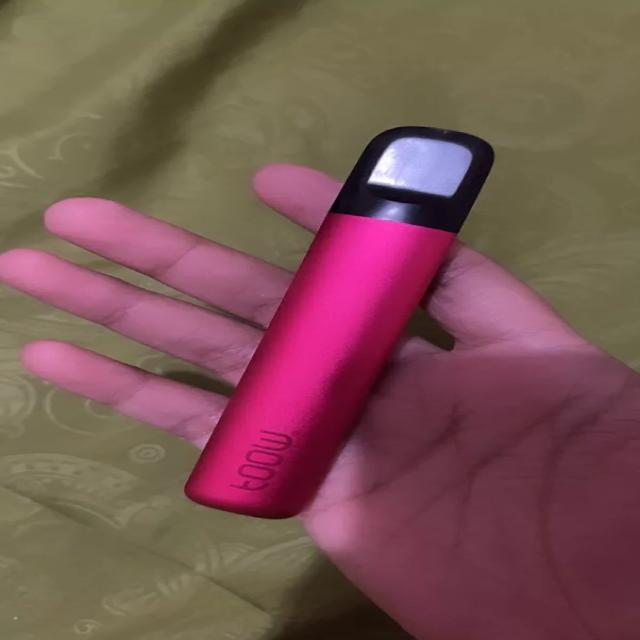Hazard: (183, 123, 494, 518)
